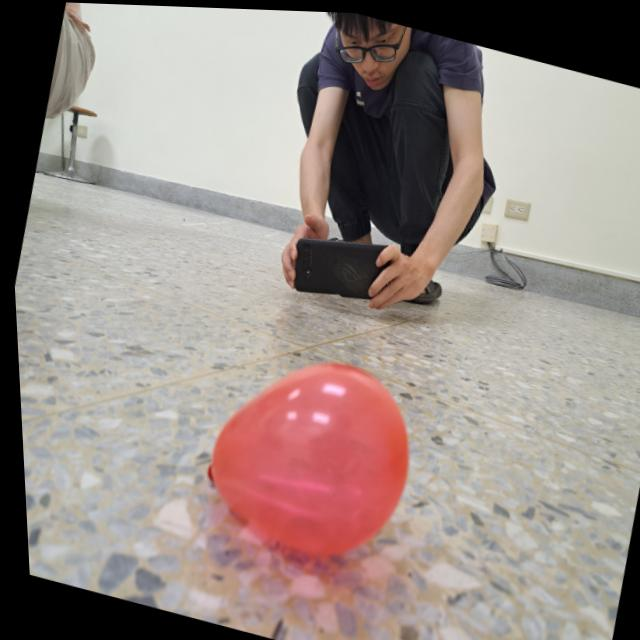red: (181, 330, 428, 580)
